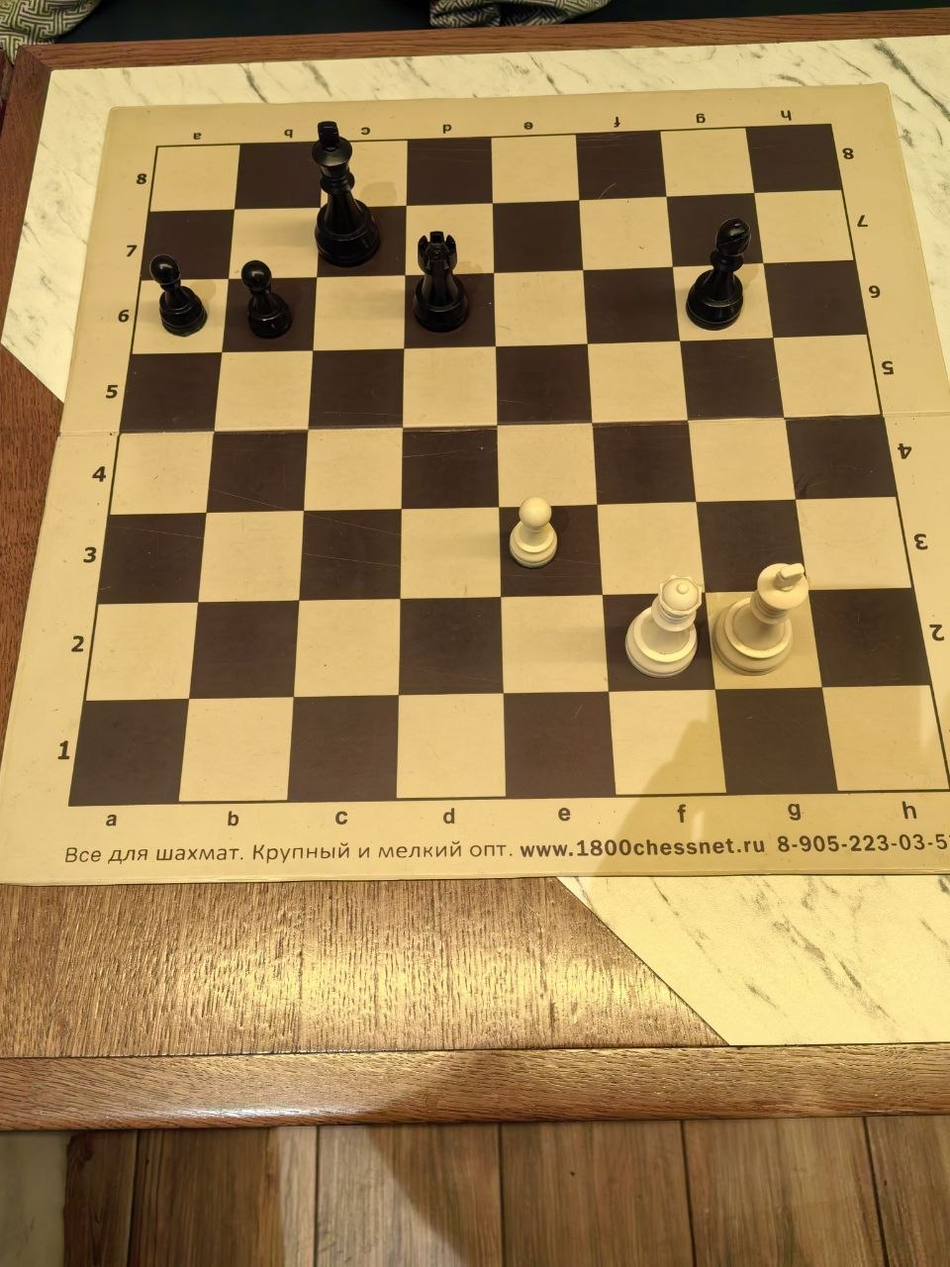black-bishop: (712, 950, 831, 1109)
black-king: (594, 950, 712, 1109)
black-rook: (475, 792, 594, 950)
white-bishop: (238, 158, 356, 317)
white-knight: (356, 317, 475, 475)
white-pawn: (712, 317, 831, 475)
white-rook: (0, 317, 119, 475), (119, 317, 238, 475)
